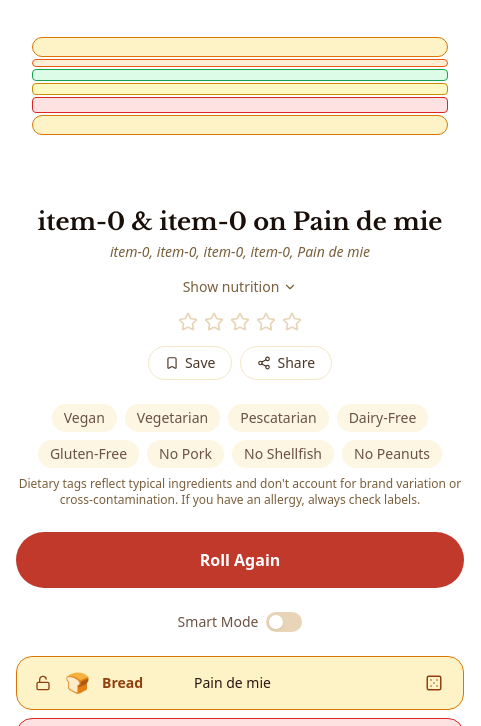
HomePage › load from saved sandwich › with an ingredient that is not enabled › drops the ingredient when the category is rolled again without a lock
This screenshot has width=481, height=726.
Click the button "Roll Again" at (240, 560), box x1=16 y1=532 x2=464 y2=588
Wait 4500 ms
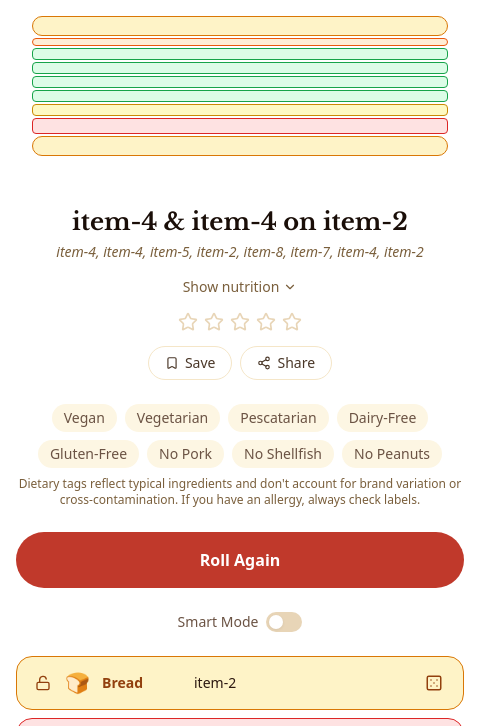
expect the heading "Pain de mie" is gone: met
